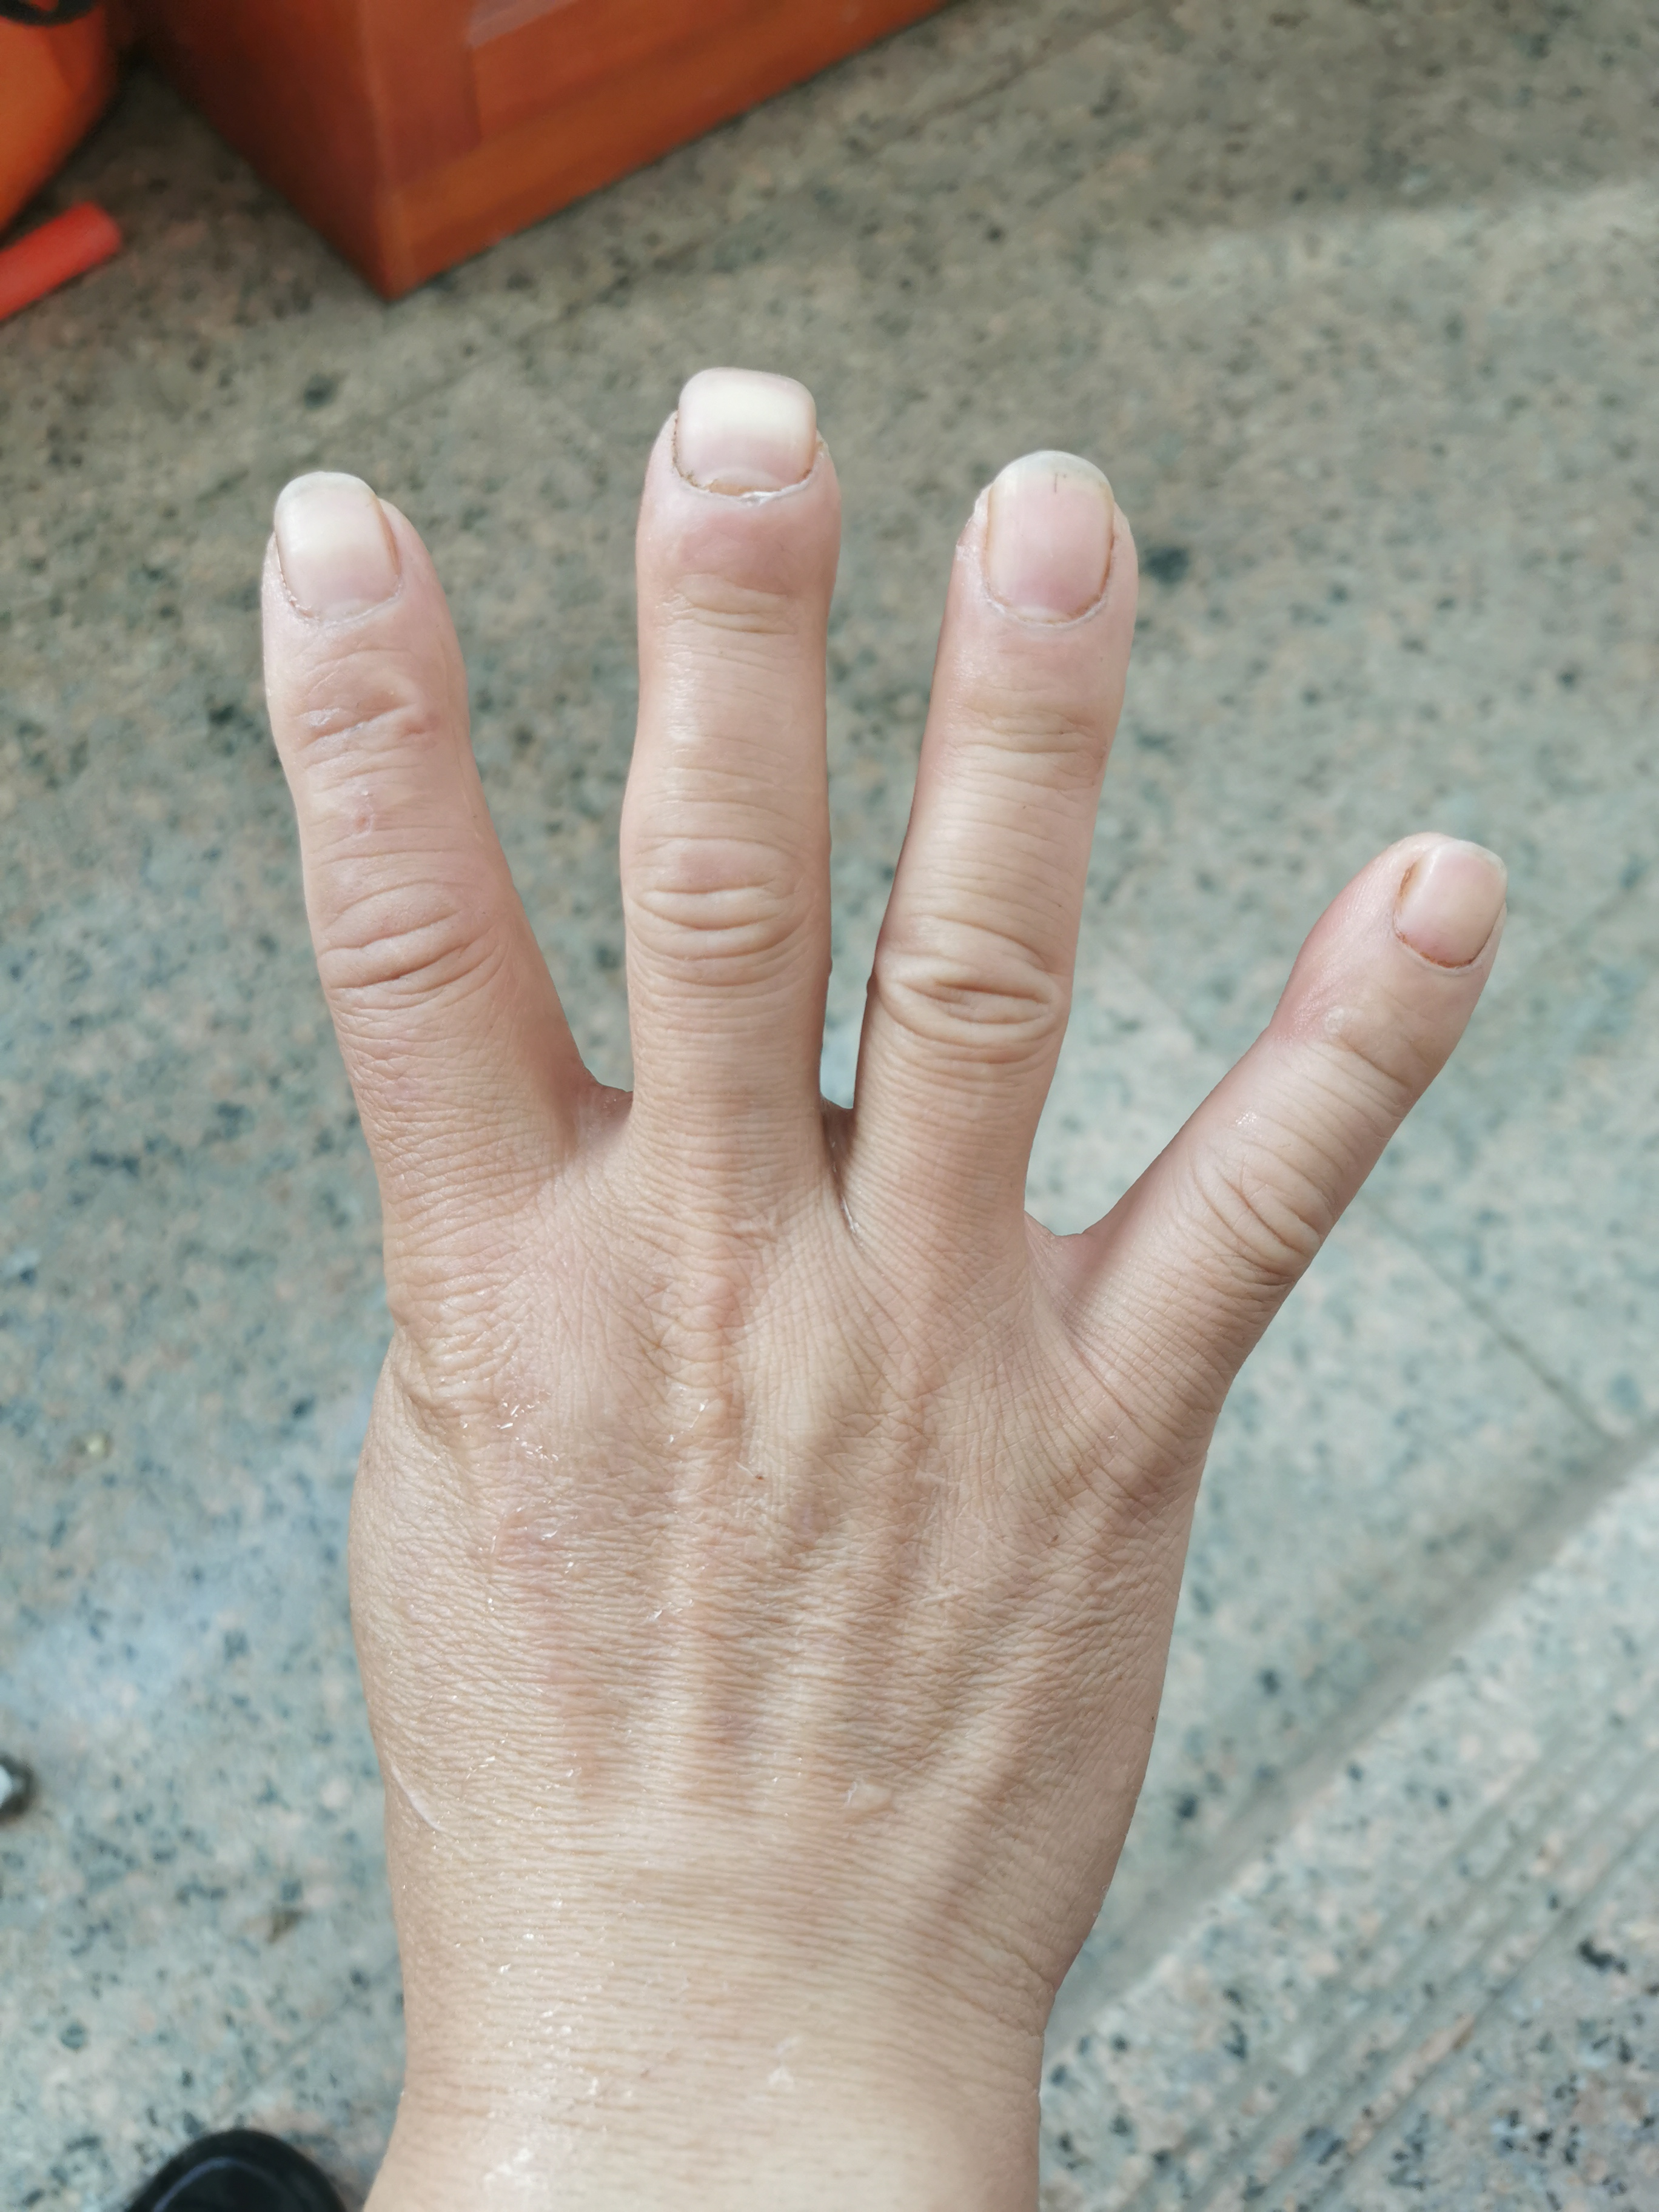right: (230, 338, 1530, 1982)
